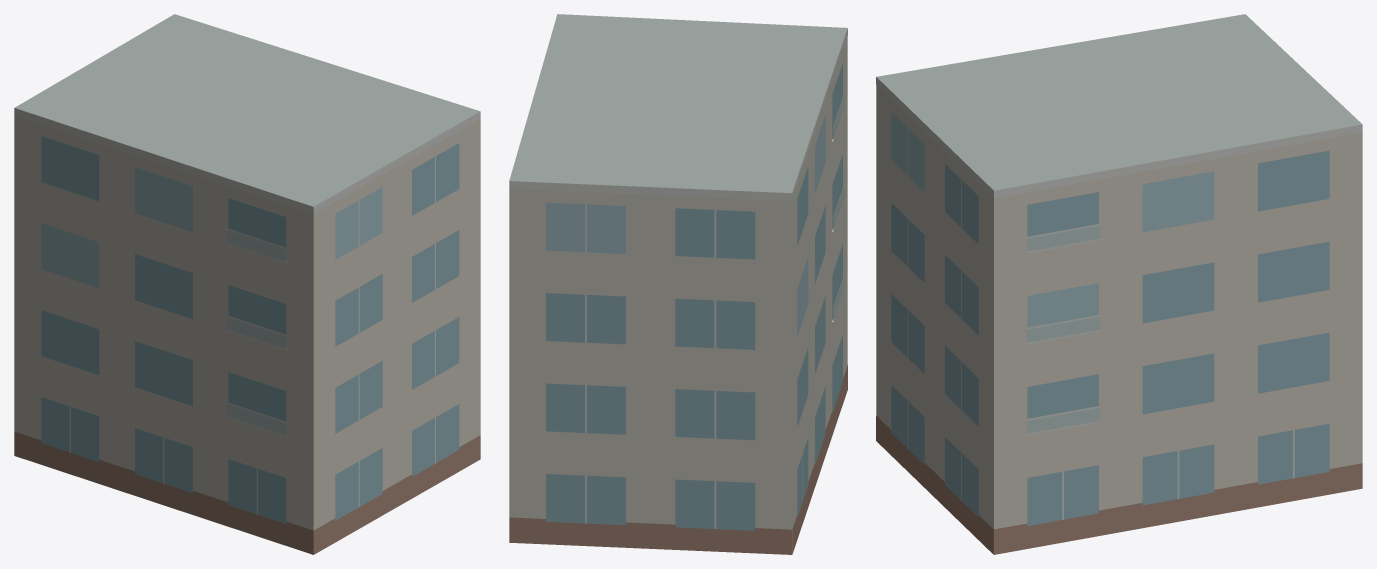
Rendered from survey-upis-32941349.glb.
The picture shows the model from 3 angles, left to right: view 1: azimuth 30°, elevation 25°; view 2: azimuth 150°, elevation 25°; view 3: azimuth 270°, elevation 25°; orthographic projection. The views are drawn at different scales.
Visible parts, largest first — view 1: survey-upis-32941349.tmp; view 2: survey-upis-32941349.tmp; view 3: survey-upis-32941349.tmp.
Boxes of the visible parts, x1,y1,x2,y2 form: survey-upis-32941349.tmp: (14, 14, 480, 554); survey-upis-32941349.tmp: (509, 14, 847, 554); survey-upis-32941349.tmp: (876, 14, 1362, 554).
Size of the model in its own units: 11.87 by 11.4 by 13.81.
